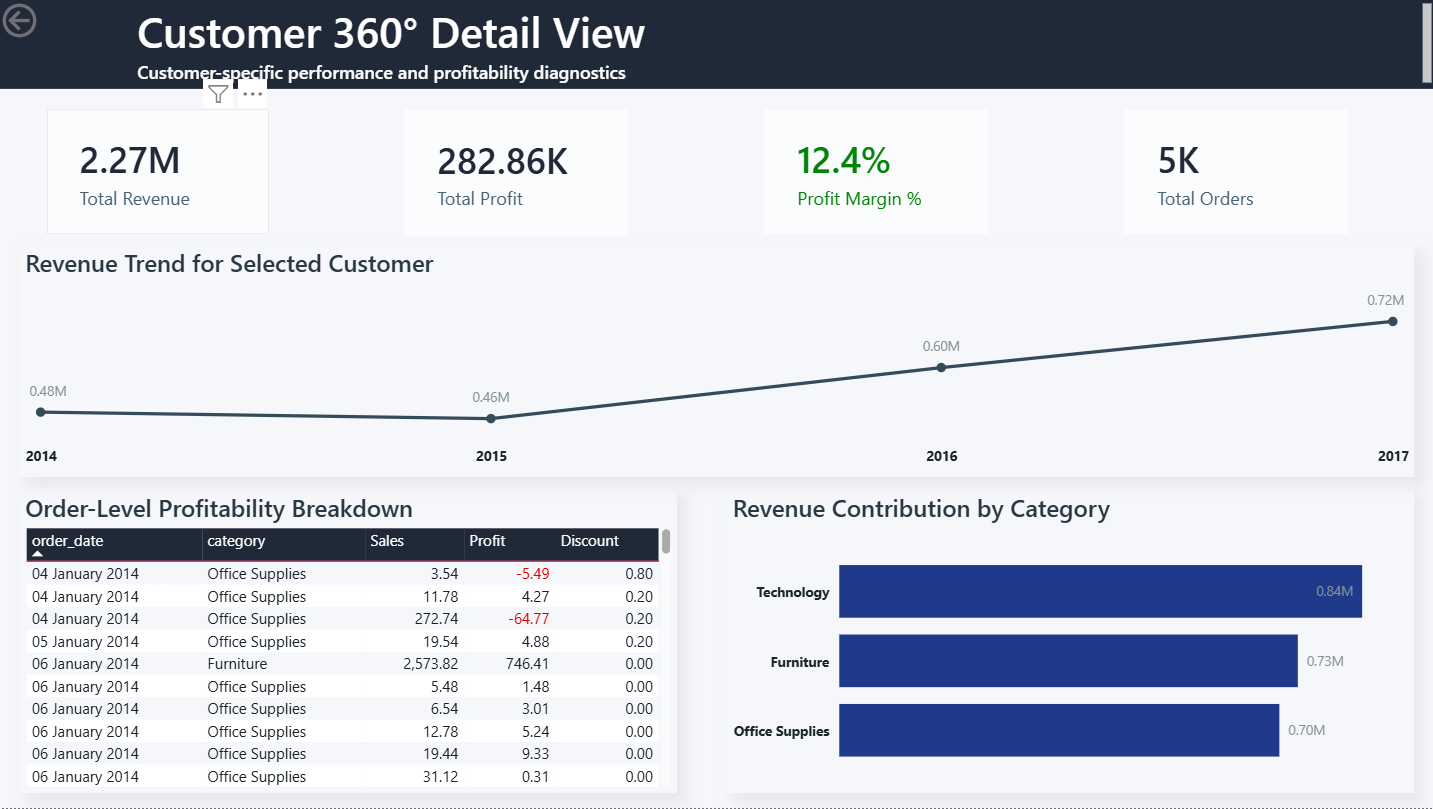

The page's visual inventory and layout, read from the dashboard file:
{"tool":"powerbi","page":{"name":"Customer Details","canvas":[1280,720],"ordinal":5},"visuals":[{"type":"textbox","box":[0,0,1280,80.7],"z":0},{"type":"actionButton","box":[0,0,100,40],"z":1000},{"type":"cardVisual","fields":{"Data":["retail_analysis orders.Total Revenue"]},"box":[44,98.8,196.9,111.3],"z":2000},{"type":"cardVisual","fields":{"Data":["retail_analysis orders.Profit Margin %"]},"box":[682.7,98.8,198.1,111.3],"z":3000},{"type":"cardVisual","fields":{"Data":["viualation table.Total Orders"]},"box":[1002.7,98.8,198.1,111.3],"z":4000},{"type":"cardVisual","fields":{"Data":["retail_analysis orders.Total Profit"]},"box":[362.8,98.8,198.1,112.5],"z":5000},{"type":"lineChart","title":"Revenue Trend for Selected Customer","fields":{"Category":["retail_analysis orders.order_date.Variation.Date Hierarchy.Year","retail_analysis orders.order_date.Variation.Date Hierarchy.Month"],"Y":["viualation table.Total Revenue"]},"box":[19.6,220.1,1240,205.4],"z":6000},{"type":"barChart","title":"Revenue Contribution by Category","fields":{"Category":["retail_analysis products.category"],"Y":["viualation table.Total Revenue"]},"box":[649.3,437.8,610.2,269],"z":7000},{"type":"tableEx","title":"Order-Level Profitability Breakdown","fields":{"Values":["retail_analysis orders.order_date","retail_analysis products.category","retail_analysis orders.Sales","retail_analysis orders.Profit","retail_analysis orders.Discount"]},"box":[19.6,437.8,584.5,269],"z":8000}]}

Visuals, with their boxes in screenshot pixels (x1, y1, x2, y2), scaled from the page's 1280x720 canvas onto the 1433x809 screenshot:
textbox: Rect(0, 0, 1432, 91)
actionButton: Rect(0, 0, 112, 45)
cardVisual - retail_analysis orders.Total Revenue: Rect(49, 111, 270, 236)
cardVisual - retail_analysis orders.Profit Margin %: Rect(764, 111, 986, 236)
cardVisual - viualation table.Total Orders: Rect(1123, 111, 1344, 236)
cardVisual - retail_analysis orders.Total Profit: Rect(406, 111, 628, 237)
"Revenue Trend for Selected Customer" lineChart: Rect(22, 247, 1410, 478)
"Revenue Contribution by Category" barChart: Rect(727, 492, 1410, 794)
"Order-Level Profitability Breakdown" tableEx: Rect(22, 492, 676, 794)
